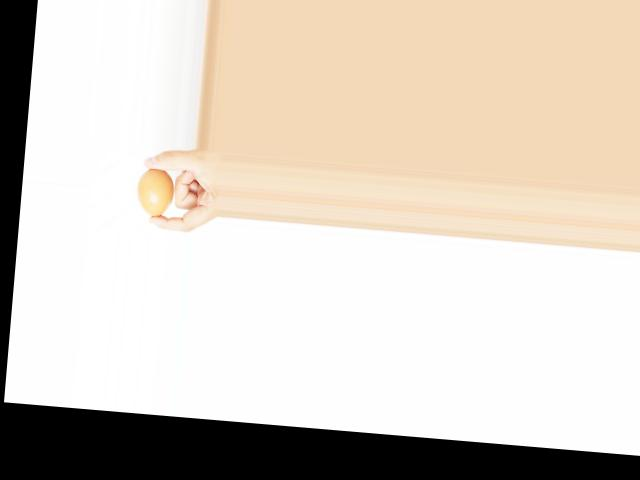egg: (134, 167, 175, 218)
